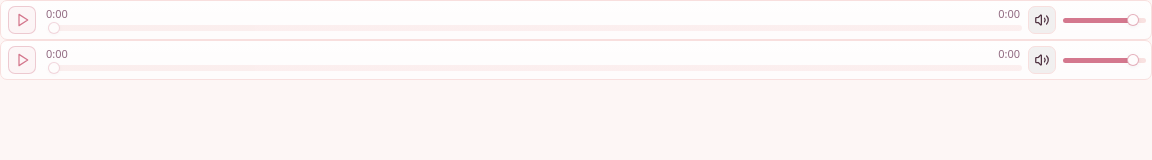
Test case: AudioPlayer › keeps only one player active globally
Click the button named "Track A play": (22, 20) [8,6,36,34]
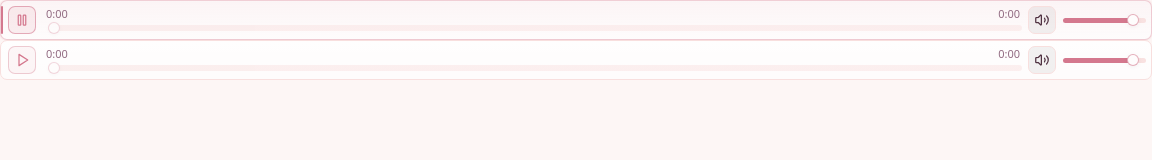
Now the button named "Track A pause" is shown, box [8,6,36,34]
Click the button named "Track B play": (22, 60) [8,46,36,74]
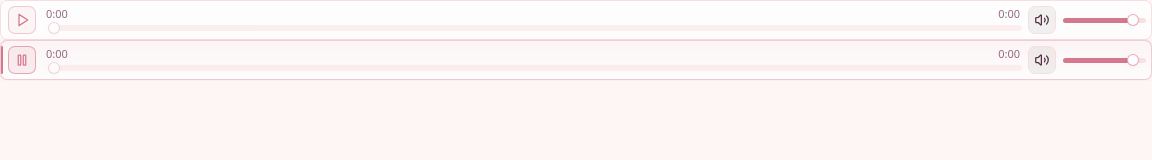
Now the button named "Track A play" is shown, box [8,6,36,34]
Now the button named "Track B pause" is shown, box [8,46,36,74]
